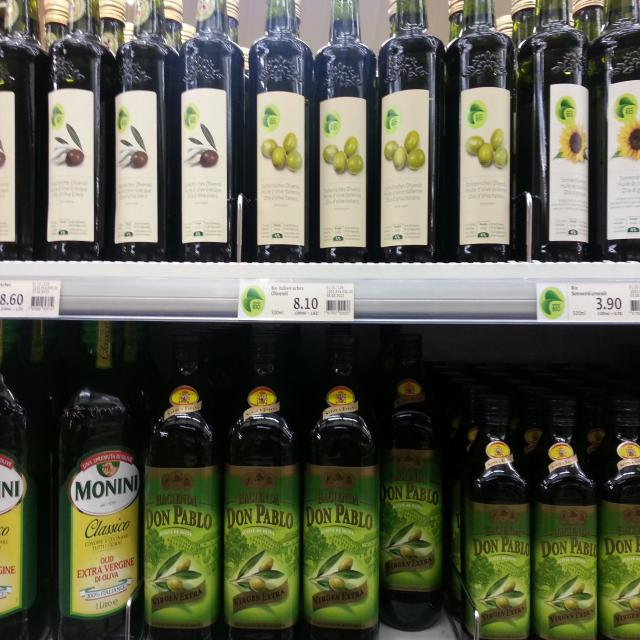Oil-Vinegar: (46, 322, 144, 640), (139, 324, 223, 640), (302, 319, 384, 640), (225, 323, 303, 640), (382, 323, 452, 630), (241, 0, 322, 263), (436, 0, 516, 265), (514, 0, 592, 263), (105, 0, 183, 258), (42, 0, 111, 259), (311, 0, 380, 259), (178, 0, 245, 259), (382, 0, 449, 259), (530, 390, 598, 640), (469, 384, 532, 640), (0, 319, 47, 639), (591, 0, 640, 260), (0, 0, 44, 259), (599, 404, 640, 640)
